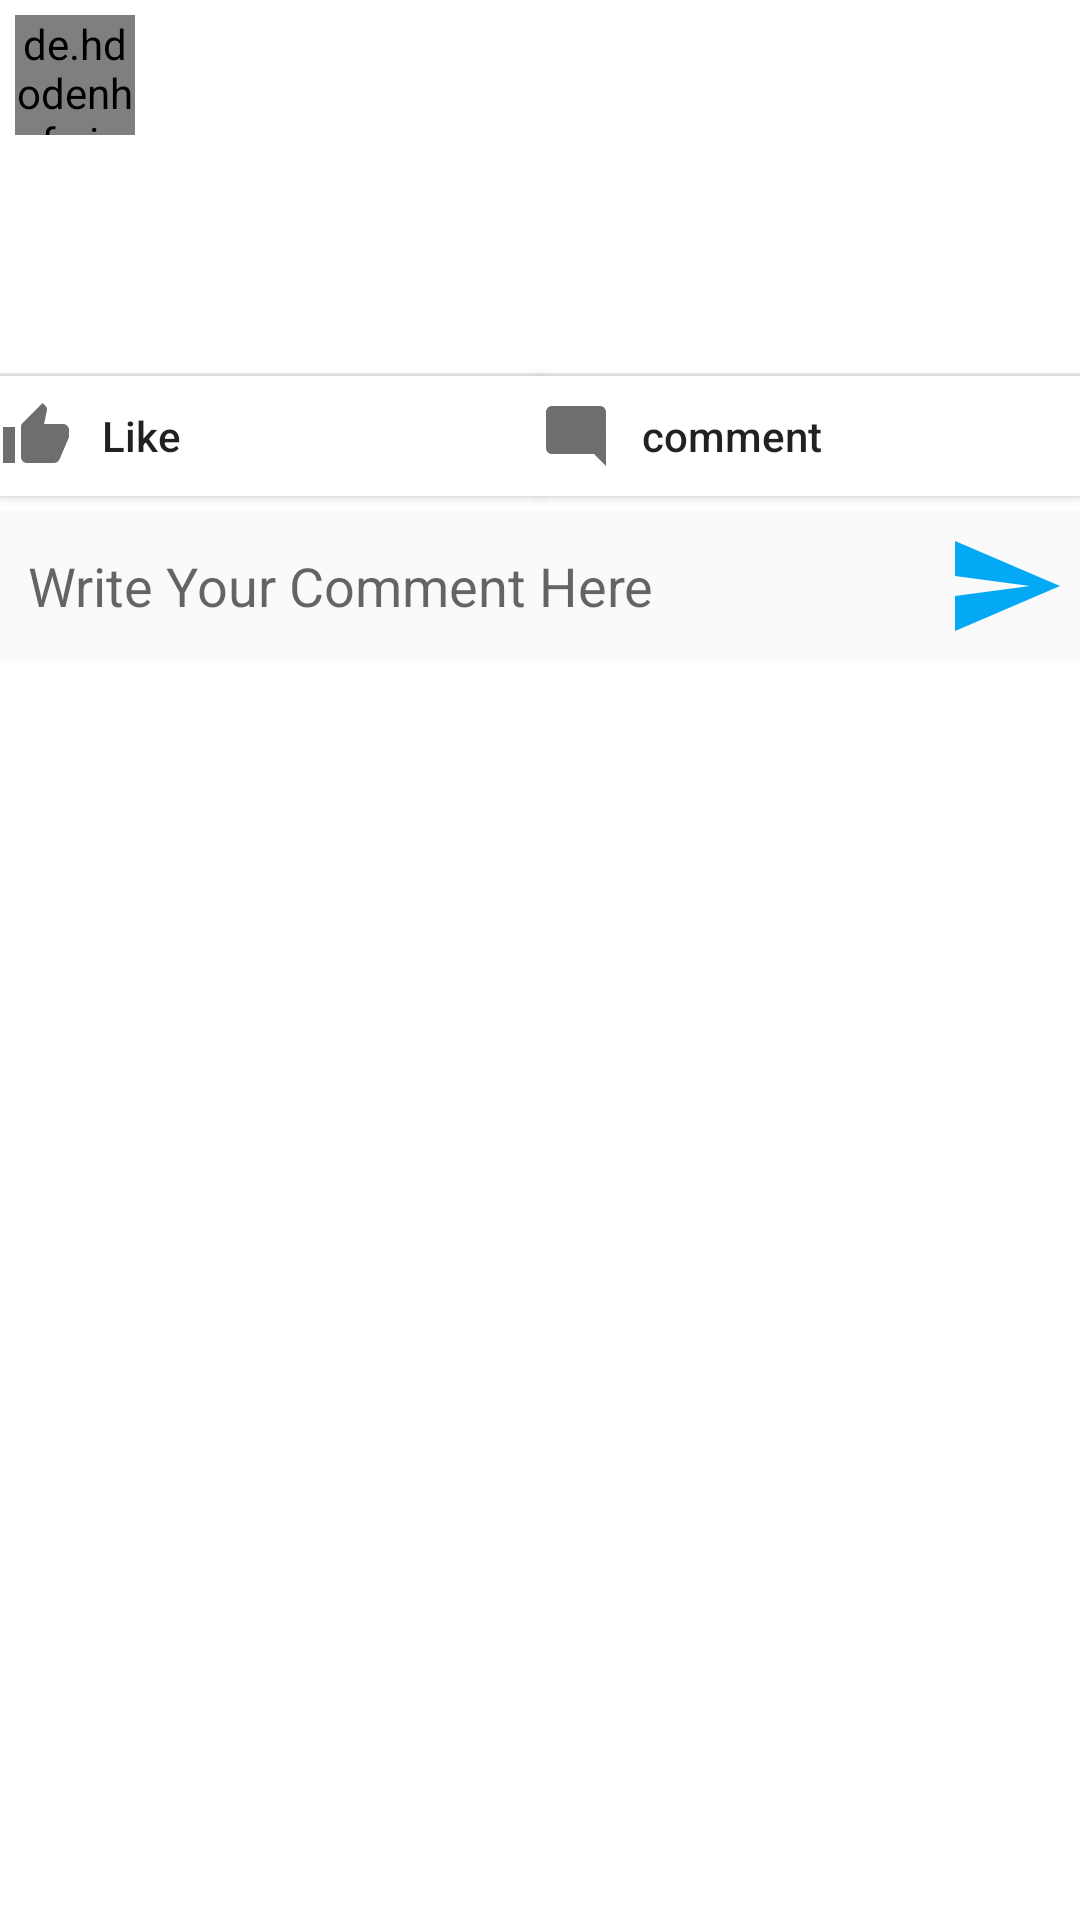

Screen size 1080×1920. Icon name, then its center in pixels as (x,y):
send: (1007,586)
